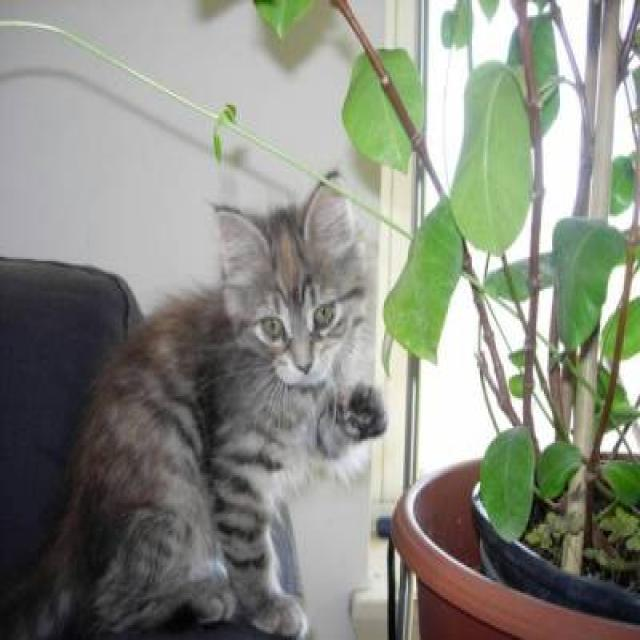cat: (0, 169, 387, 638)
